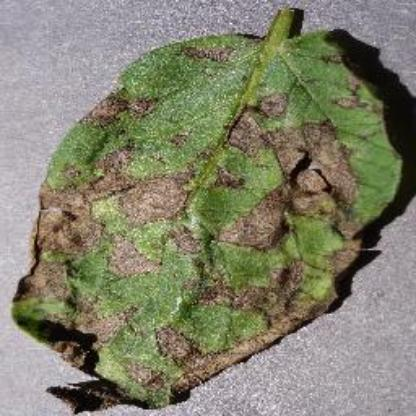Early-Blight: (15, 6, 405, 410)
